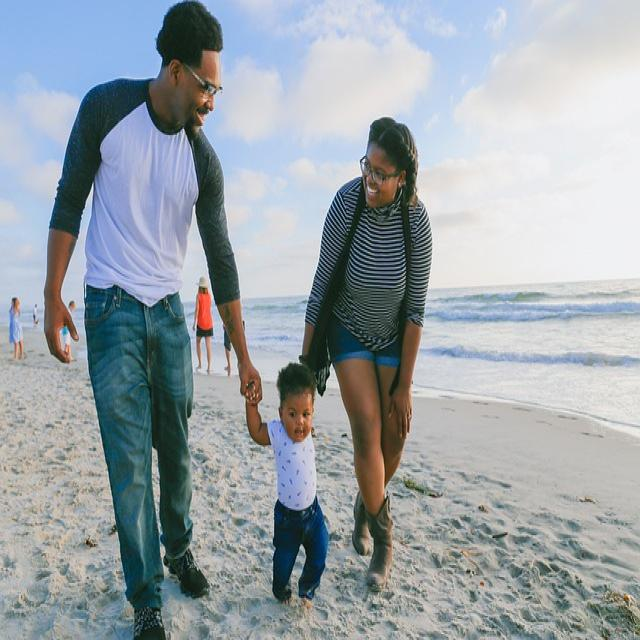adult: (44, 0, 264, 640), (298, 115, 434, 594)
child: (247, 361, 331, 612)
